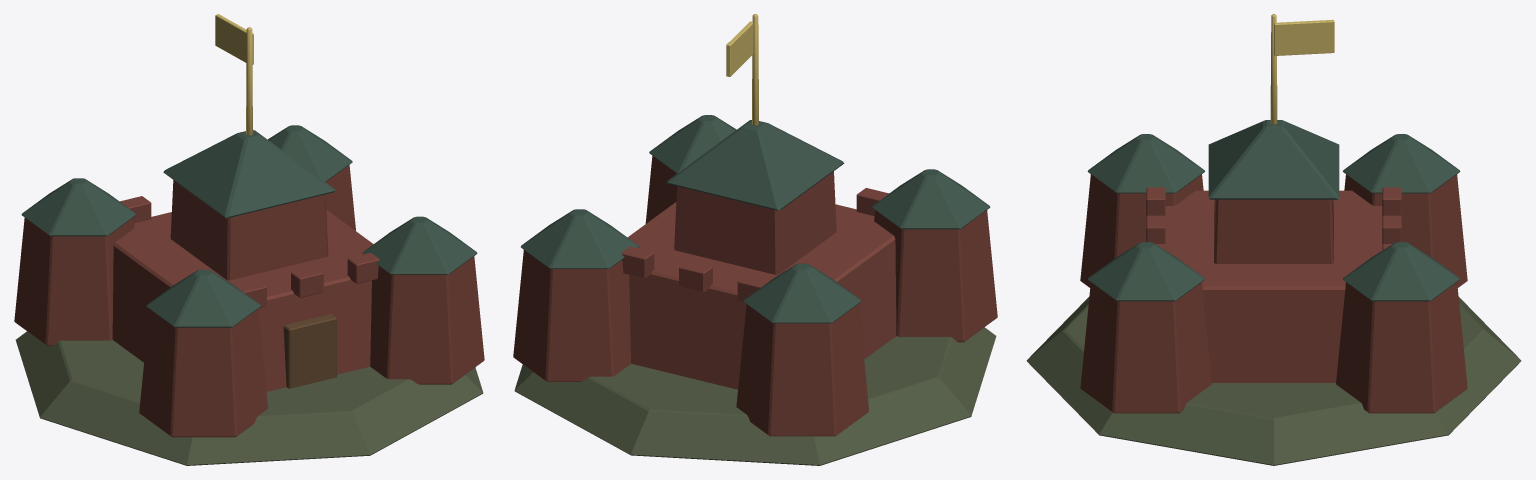
Rendered from Bastion_Fortress.glb.
3 views of the same model, side by side, from view 1: azimuth 30°, elevation 25°; view 2: azimuth 150°, elevation 25°; view 3: azimuth 270°, elevation 25° (orthographic). The views are drawn at different scales.
Parts seen in each view (by area): view 1: StarGlacis, CurtainWall, BastNW, BastNE, BastSW, CommandCitadel, CitadelRoof, BastSW_Roof, BastNW_Roof, BastNE_Roof, SallyPortGate, BastSE_Roof (+7 smaller); view 2: StarGlacis, CurtainWall, BastSW, BastSE, BastNW, CommandCitadel, CitadelRoof, BastNW_Roof, BastSW_Roof, BastSE_Roof, BastNE_Roof, BastNE (+6 smaller); view 3: StarGlacis, CurtainWall, BastNE, BastSE, CitadelRoof, CommandCitadel, BastNW, BastSW, BastNE_Roof, BastSE_Roof, BastNW_Roof, BastSW_Roof (+6 smaller).
Part boxes in pixels (x1,y1,x2,y2): StarGlacis: (15,331,483,465); CurtainWall: (112,210,373,391); BastNW: (139,309,267,437); BastNE: (370,256,484,384); BastSW: (14,218,134,345); CommandCitadel: (170,180,328,280); CitadelRoof: (163,130,335,218); BastSW_Roof: (21,178,136,236); BastNW_Roof: (146,269,261,327); BastNE_Roof: (362,216,477,274); SallyPortGate: (283,314,336,388); BastSE_Roof: (268,125,352,181); StarGlacis: (514,327,996,465); CurtainWall: (627,202,896,389); BastSW: (736,304,868,436); BastSE: (513,250,630,381); BastNW: (874,210,997,342); CommandCitadel: (674,171,836,274); CitadelRoof: (666,120,844,210); BastNW_Roof: (872,169,990,229); BastSW_Roof: (743,263,861,323); BastSE_Roof: (521,209,638,268); BastNE_Roof: (649,115,736,173); BastNE: (645,156,676,223); StarGlacis: (1026,297,1521,465); CurtainWall: (1165,190,1382,382); BastNE: (1080,282,1211,413); BastSE: (1336,282,1467,413); CitadelRoof: (1208,120,1339,199); CommandCitadel: (1214,199,1333,263); BastNW: (1080,174,1203,287); BastSW: (1344,174,1467,287); BastNE_Roof: (1087,242,1204,301); BastSE_Roof: (1343,242,1460,301); BastNW_Roof: (1087,134,1204,193); BastSW_Roof: (1343,134,1460,193).
Bounding box in the file's own units: 3.1 × 2.4 × 3.1.
